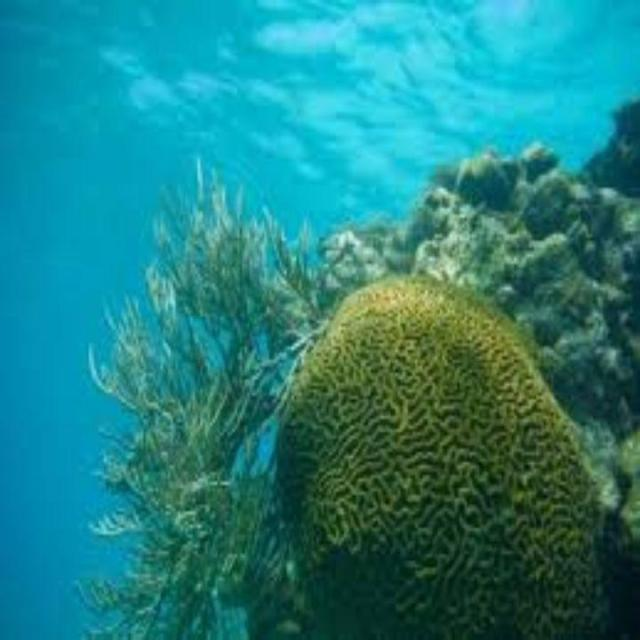Healthy Coral: (253, 242, 623, 622)
